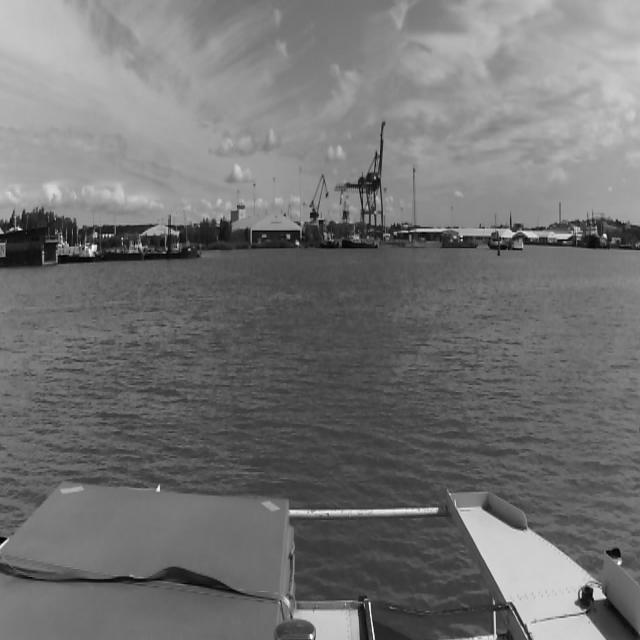buoy: (497, 244, 501, 255)
ship: (488, 228, 526, 252), (342, 231, 377, 248), (319, 225, 341, 250)
